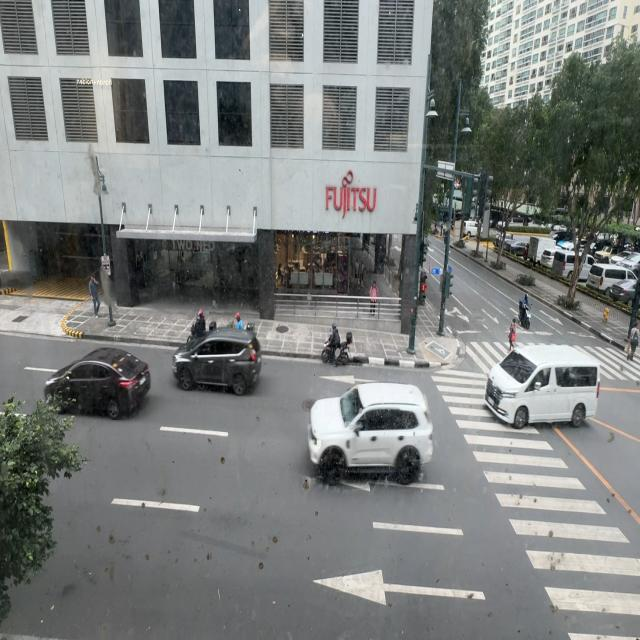crossing: (625, 318, 639, 361), (506, 319, 516, 345)
pedestrain: (88, 274, 100, 318)
